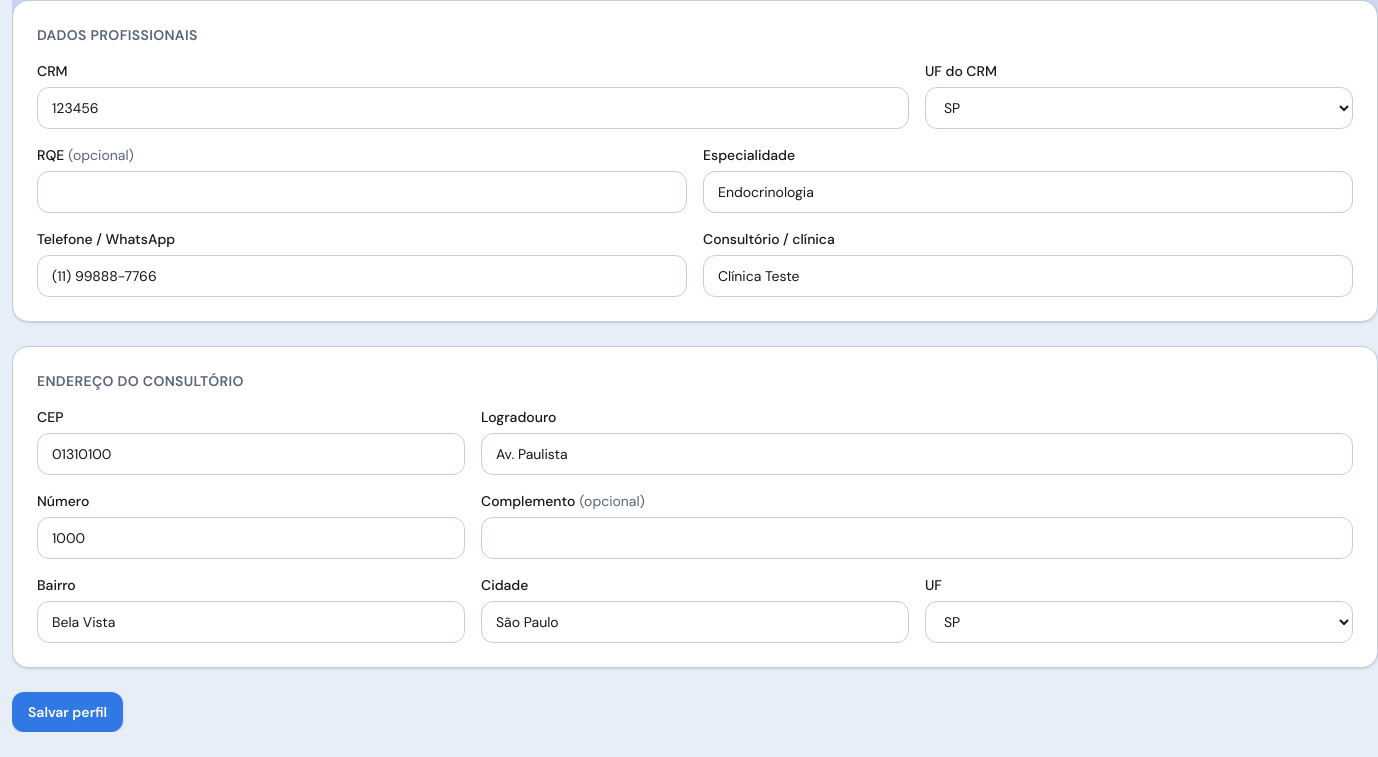
Test: DoctorProfileForm › shows clinic name validation error when empty
This screenshot has width=1378, height=757.
Step 1. Clear the field labelled "Consultório / clínica" → (1028, 276), box [703,255,1353,297]
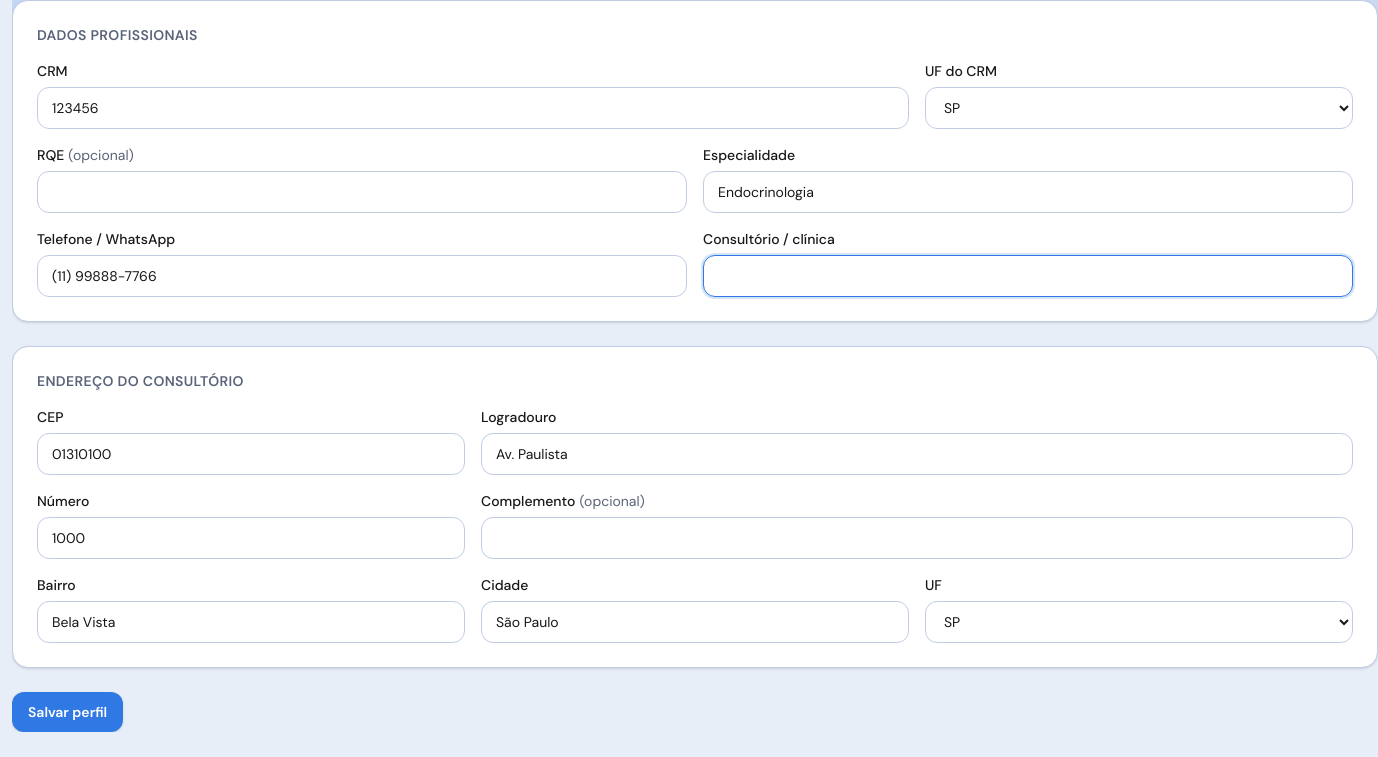
Step 2. Click the button "Salvar perfil" → click(68, 712), box [12,692,123,732]
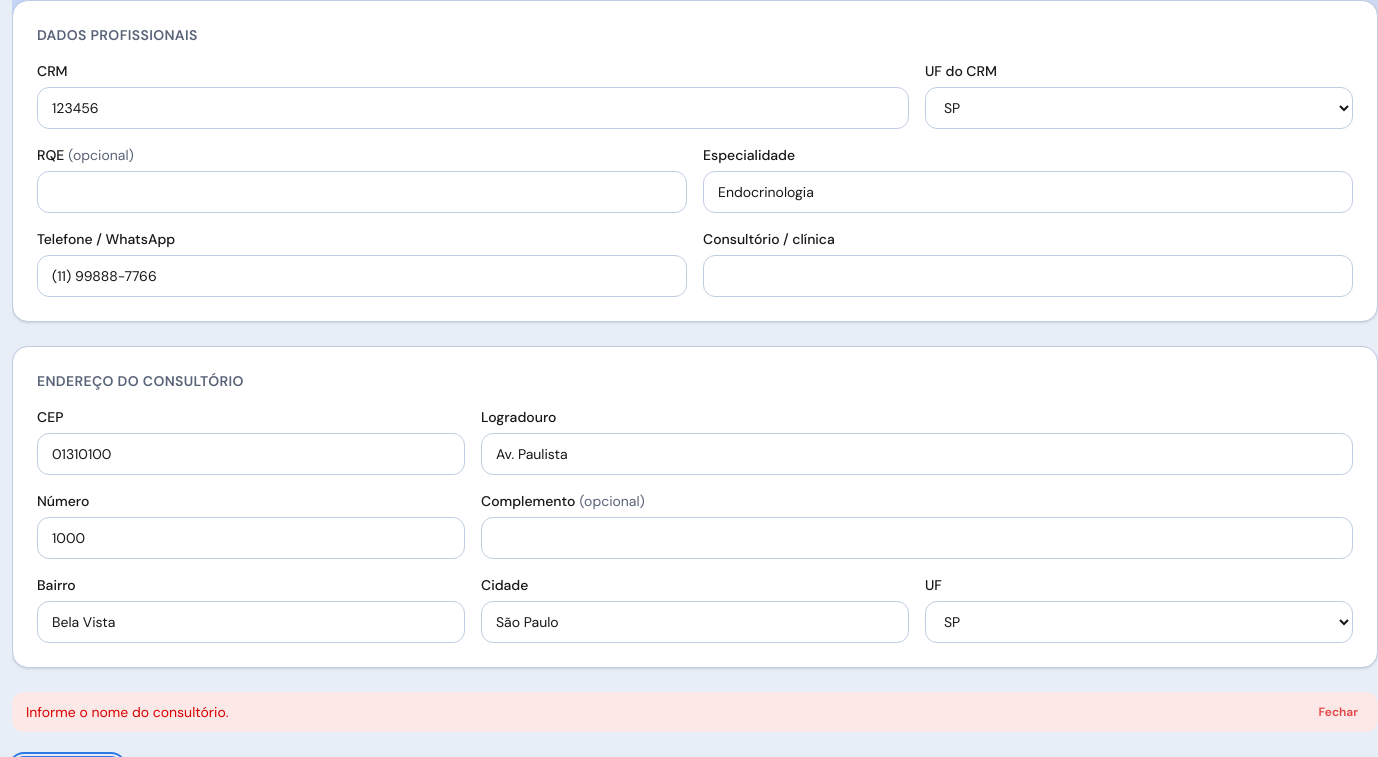
Expected: the message shows "Informe o nome do consultório.", [26,703,228,721]
